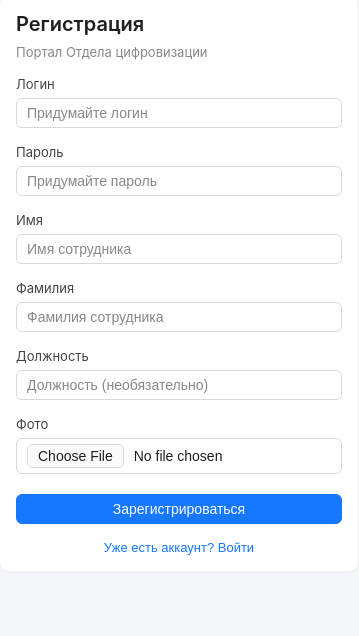
Test: RegisterPage › показывает ошибку регистрации
Type "new" into the field with placeholder "Придумайте логин". click: (179, 113)
box: [16,98,342,128]
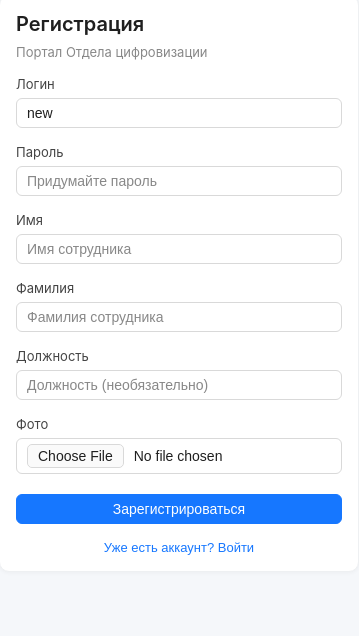
Type "Passw0rd!" into the password field with placeholder "Придумайте пароль". click: (179, 181)
box: [16,166,342,196]
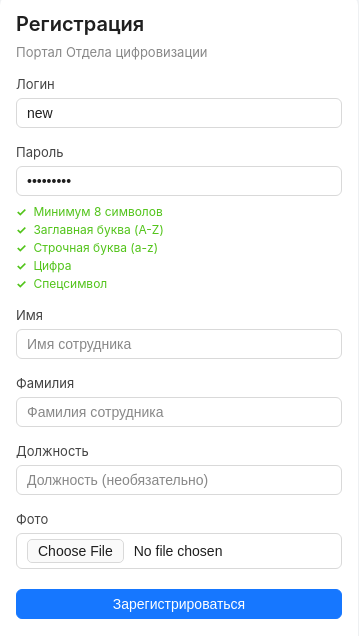
Click the button "Зарегистрироваться". click: (179, 604)
box: [16,589,342,619]
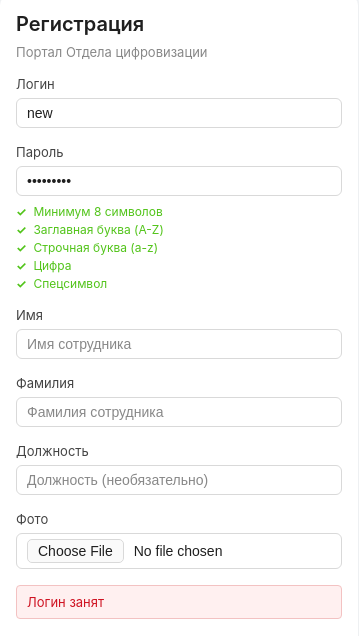
Now the text "Логин занят" is shown, box [16,585,342,619]
